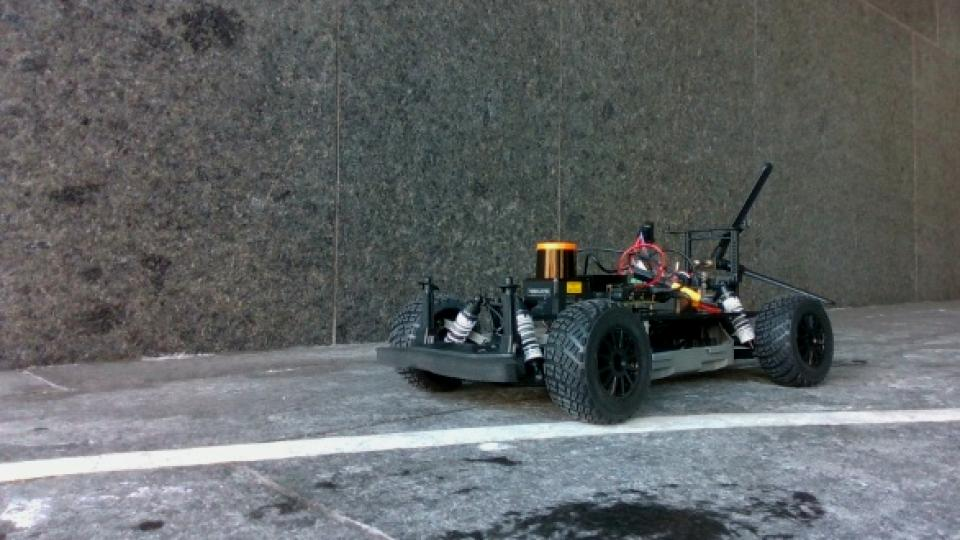car: (372, 160, 839, 426)
